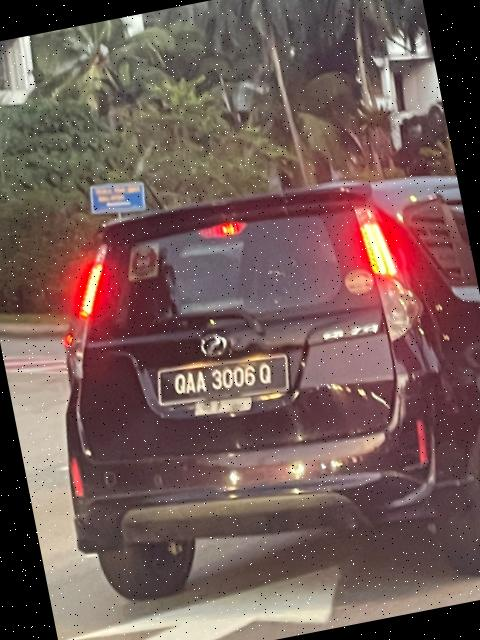License_Plate: (162, 349, 286, 416)
car: (3, 140, 480, 640)
